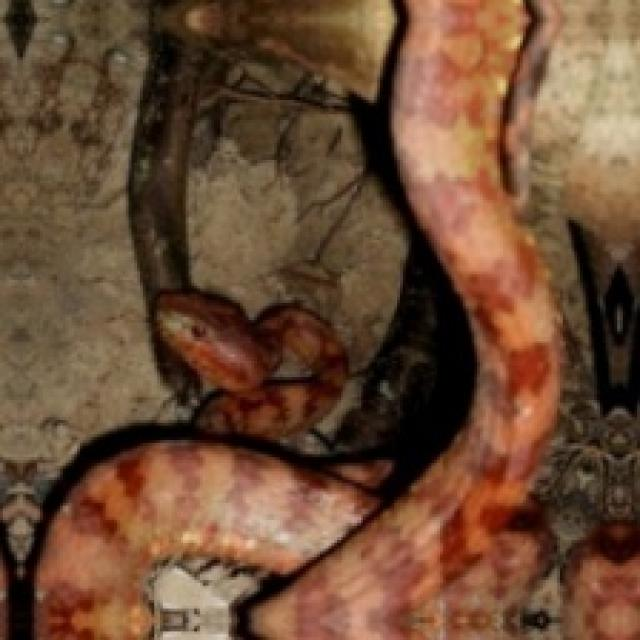philippine pitviper: (31, 0, 561, 640)
